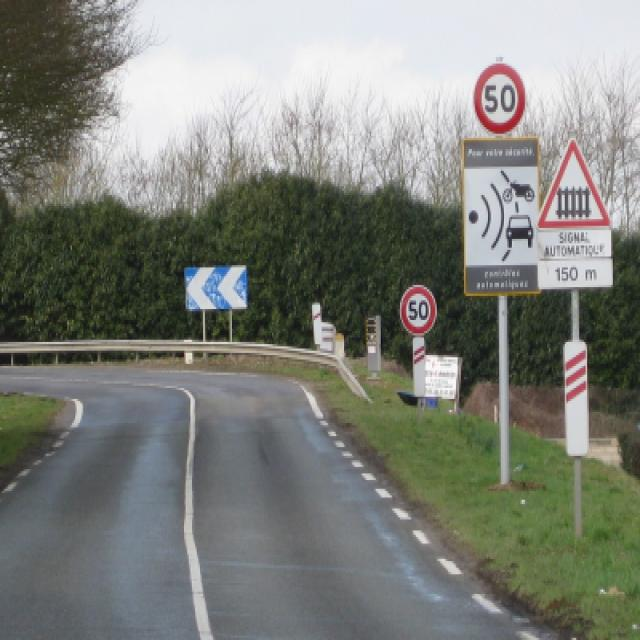arrows_turn_left: (185, 265, 247, 311)
radar_area: (461, 136, 540, 295)
speed_50: (472, 62, 527, 136), (400, 283, 437, 337)
